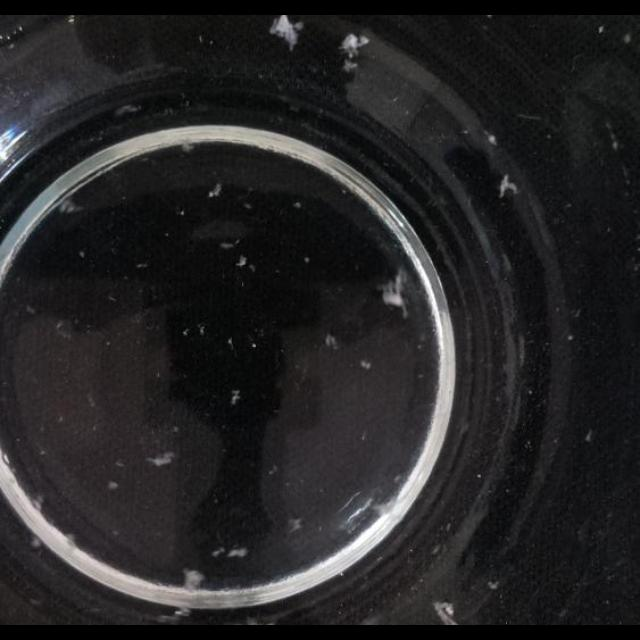Fibre: (380, 271, 410, 317), (368, 490, 402, 522), (339, 32, 371, 62), (606, 120, 624, 158), (434, 602, 462, 624), (182, 569, 205, 591), (499, 174, 519, 198), (146, 451, 176, 467), (58, 198, 82, 215), (114, 103, 140, 117), (286, 517, 302, 533), (206, 182, 222, 198), (228, 547, 248, 559), (324, 334, 338, 351), (180, 142, 194, 154), (235, 255, 247, 268), (230, 390, 240, 404)
microbeads: (268, 16, 304, 50), (157, 610, 183, 624), (62, 532, 78, 548), (31, 534, 44, 548), (86, 392, 95, 408), (488, 578, 500, 590), (107, 480, 119, 490), (584, 430, 594, 442), (212, 547, 224, 557), (360, 360, 370, 370), (26, 305, 36, 315), (267, 466, 277, 476), (292, 201, 302, 209), (137, 262, 149, 268), (228, 336, 235, 346), (200, 324, 207, 334), (182, 329, 190, 337), (566, 333, 574, 341), (177, 209, 185, 217), (78, 250, 86, 258), (248, 264, 256, 272), (244, 202, 252, 210), (304, 256, 310, 264), (476, 472, 482, 480), (58, 416, 64, 424), (252, 342, 256, 348)
